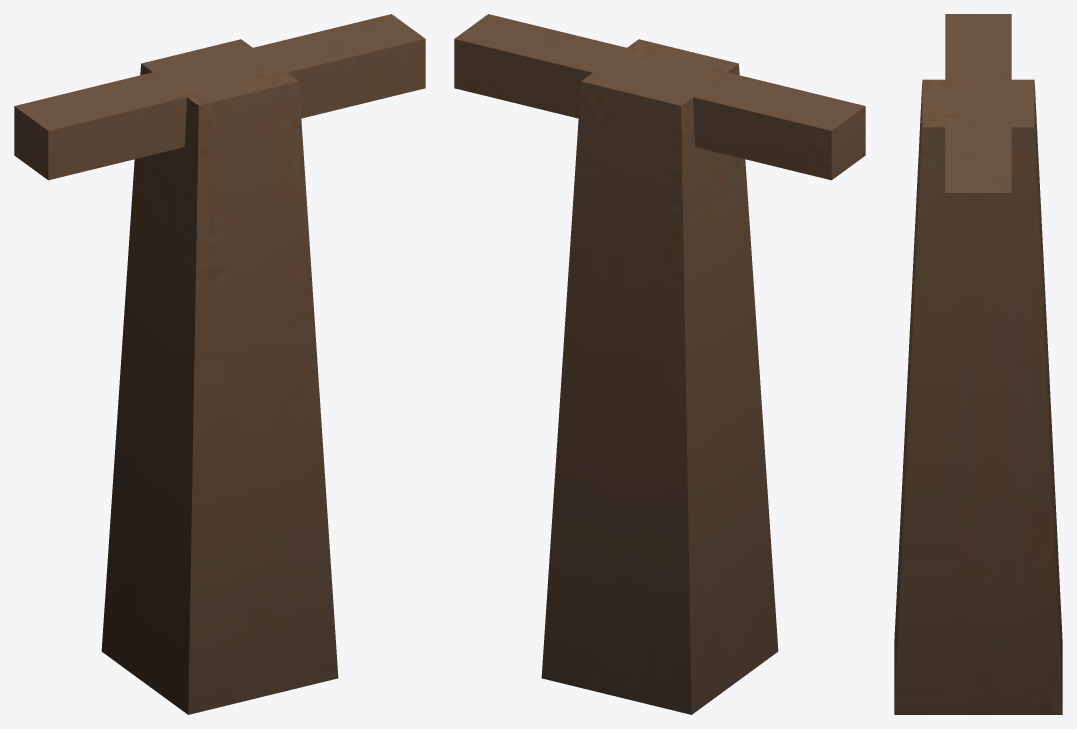
The model's file is medium-electric-pole.glb.
3 renders of one model, left to right at view 1: azimuth 30°, elevation 25°; view 2: azimuth 150°, elevation 25°; view 3: azimuth 270°, elevation 25°, orthographic. The views are drawn at different scales.
Visible parts, largest first — view 1: medium-electric-pole; view 2: medium-electric-pole; view 3: medium-electric-pole.
Part boxes in pixels (bbox=[...]): medium-electric-pole: bbox=[14, 14, 425, 714]; medium-electric-pole: bbox=[454, 14, 865, 714]; medium-electric-pole: bbox=[894, 14, 1062, 714].
Size of the model in its own units: 0.16 by 0.24 by 0.0636.
1 material, 1 textured.
